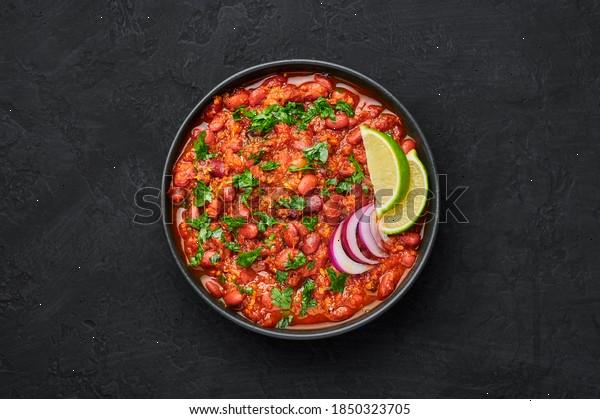rajma: (148, 59, 439, 336)
